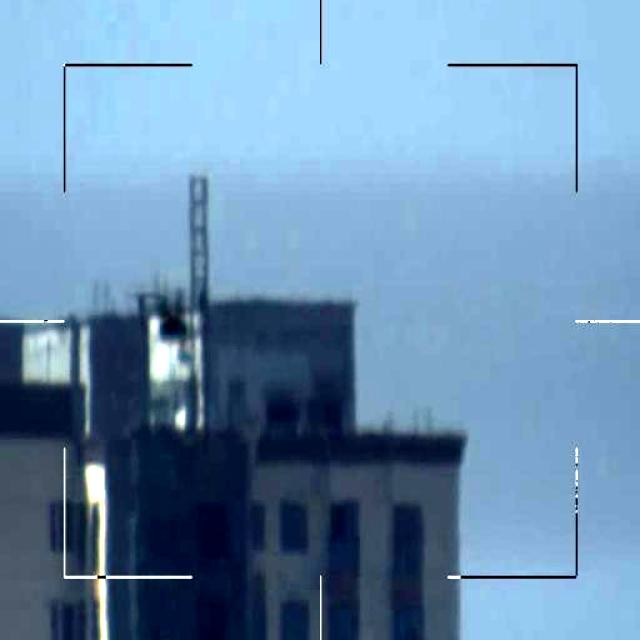bird: (139, 290, 200, 356)
